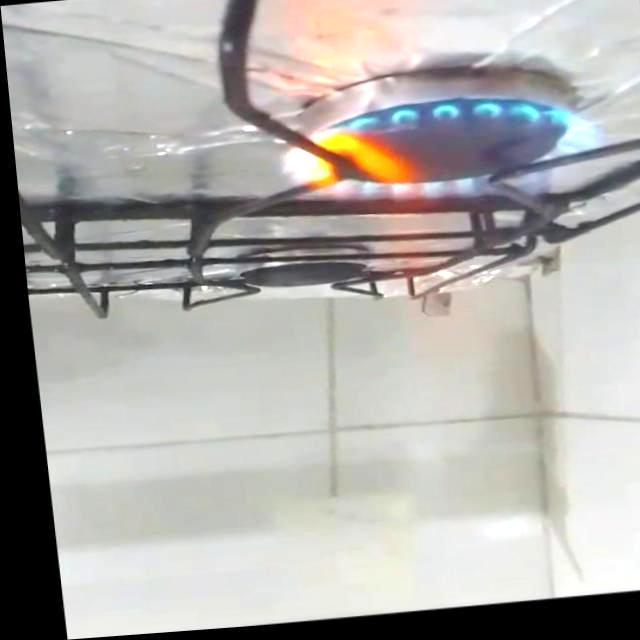fire: (263, 90, 623, 324)
